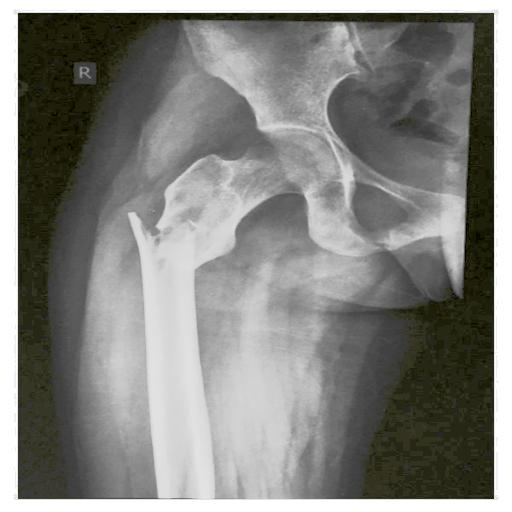subtrochanteric: (156, 131, 336, 271), (128, 211, 195, 308)
